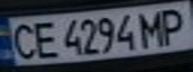2: (78, 15, 100, 56)
4: (115, 11, 142, 51), (60, 16, 81, 57)
9: (96, 14, 121, 54)
C: (6, 20, 39, 61)
E: (27, 18, 60, 60)
M: (136, 7, 172, 48)
P: (154, 4, 193, 45)
